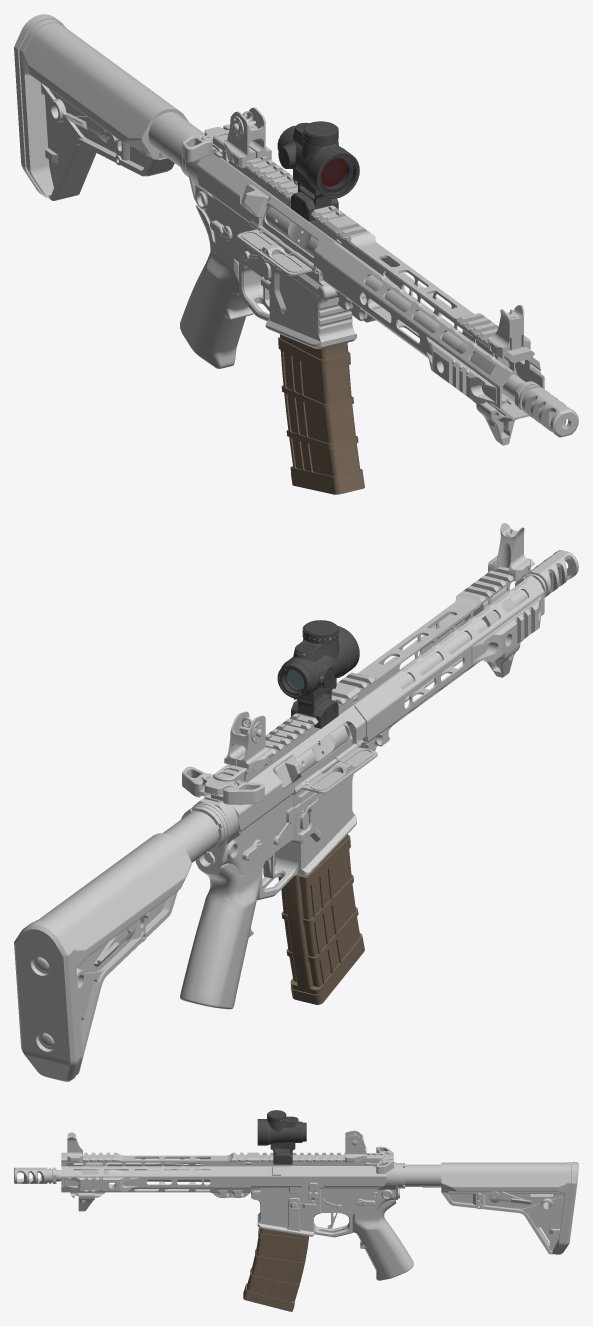
3 views of the same model, one above another, from view 1: azimuth 30°, elevation 25°; view 2: azimuth 150°, elevation 25°; view 3: azimuth 270°, elevation 25° (orthographic). The views are drawn at different scales.
Parts seen in each view (by area): view 1: UpperReciever_low; view 2: UpperReciever_low; view 3: UpperReciever_low.
Part boxes in pixels (left/top/right/bottom): UpperReciever_low: left=14, top=14, right=578, bottom=494; UpperReciever_low: left=14, top=523, right=578, bottom=1081; UpperReciever_low: left=14, top=1110, right=578, bottom=1311.
Bounding box in the file's own units: 0.07 × 0.2895 × 0.7616.
